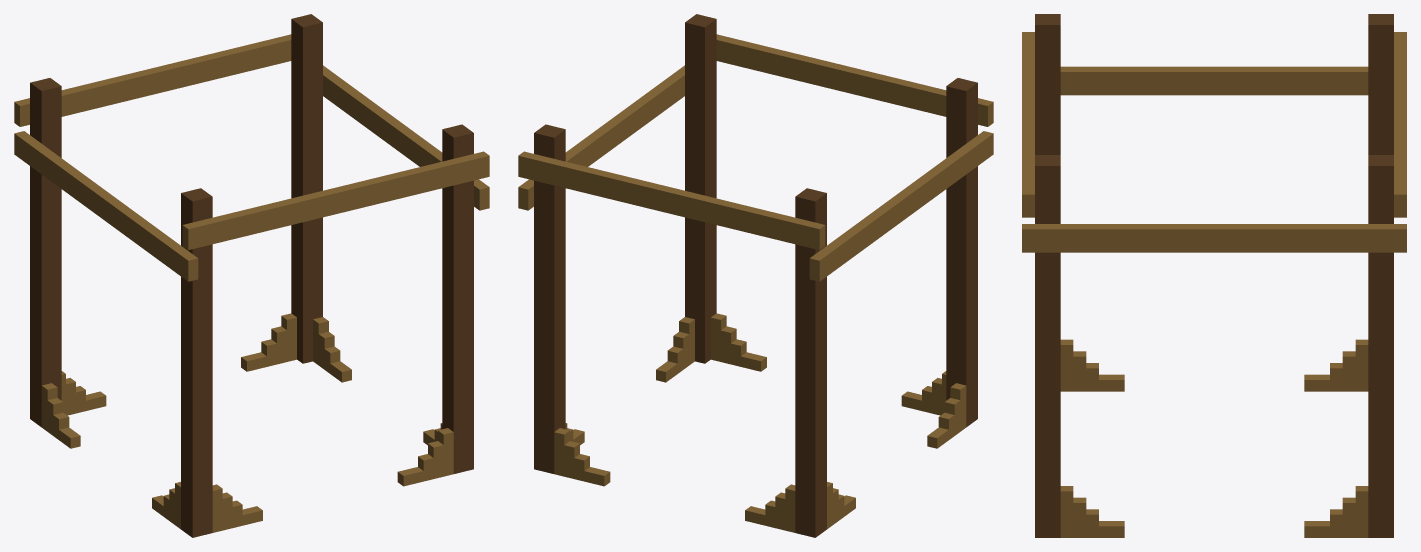
The model's file is mod_wood.obj.
The picture shows the model from 3 angles, left to right: view 1: azimuth 30°, elevation 25°; view 2: azimuth 150°, elevation 25°; view 3: azimuth 270°, elevation 25°; orthographic projection. The views are drawn at different scales.
Bounding box in the file's own units: 30 × 32 × 30.
